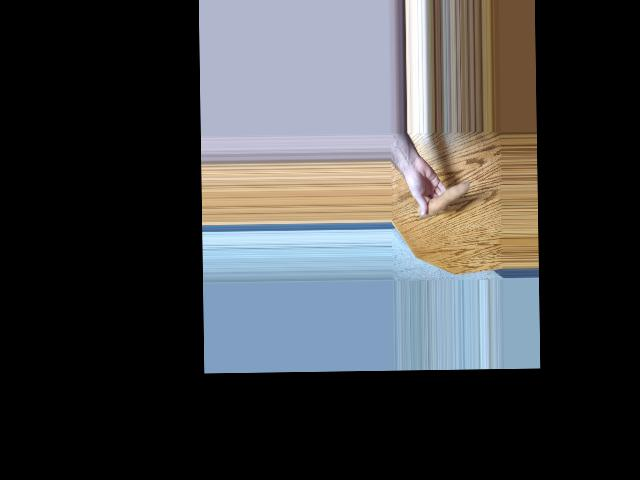sweet_potato: (415, 181, 470, 218)
